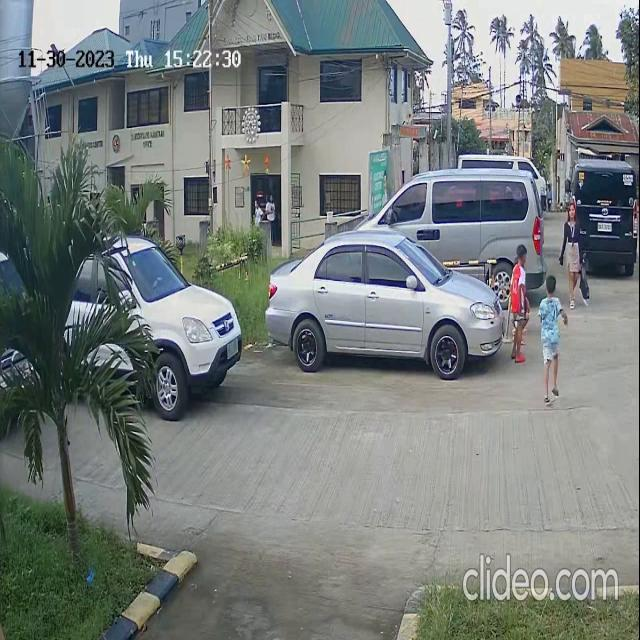person: (561, 196, 586, 308), (509, 243, 530, 375), (539, 274, 563, 368)
